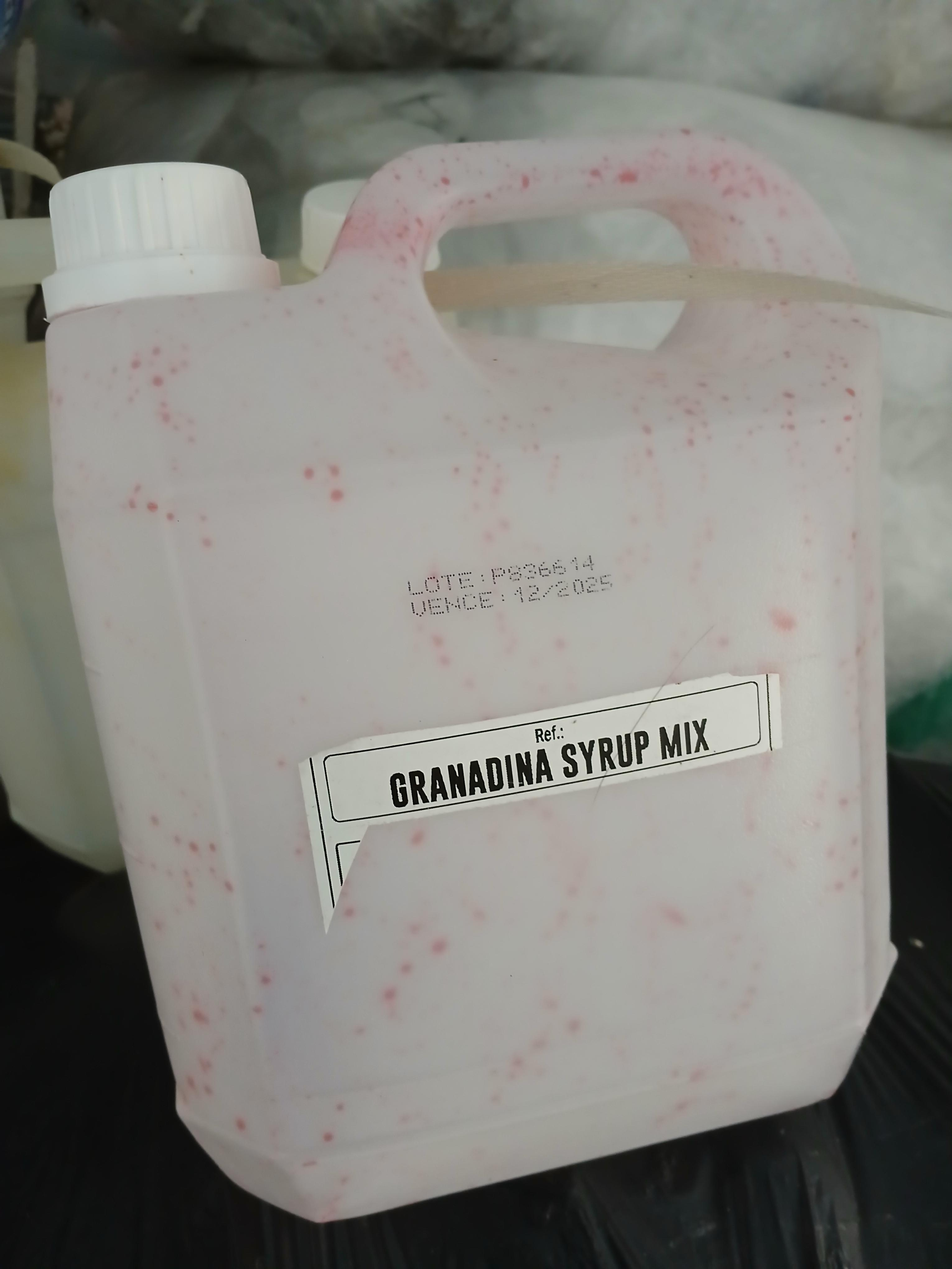Plastico: (46, 124, 899, 1223)
